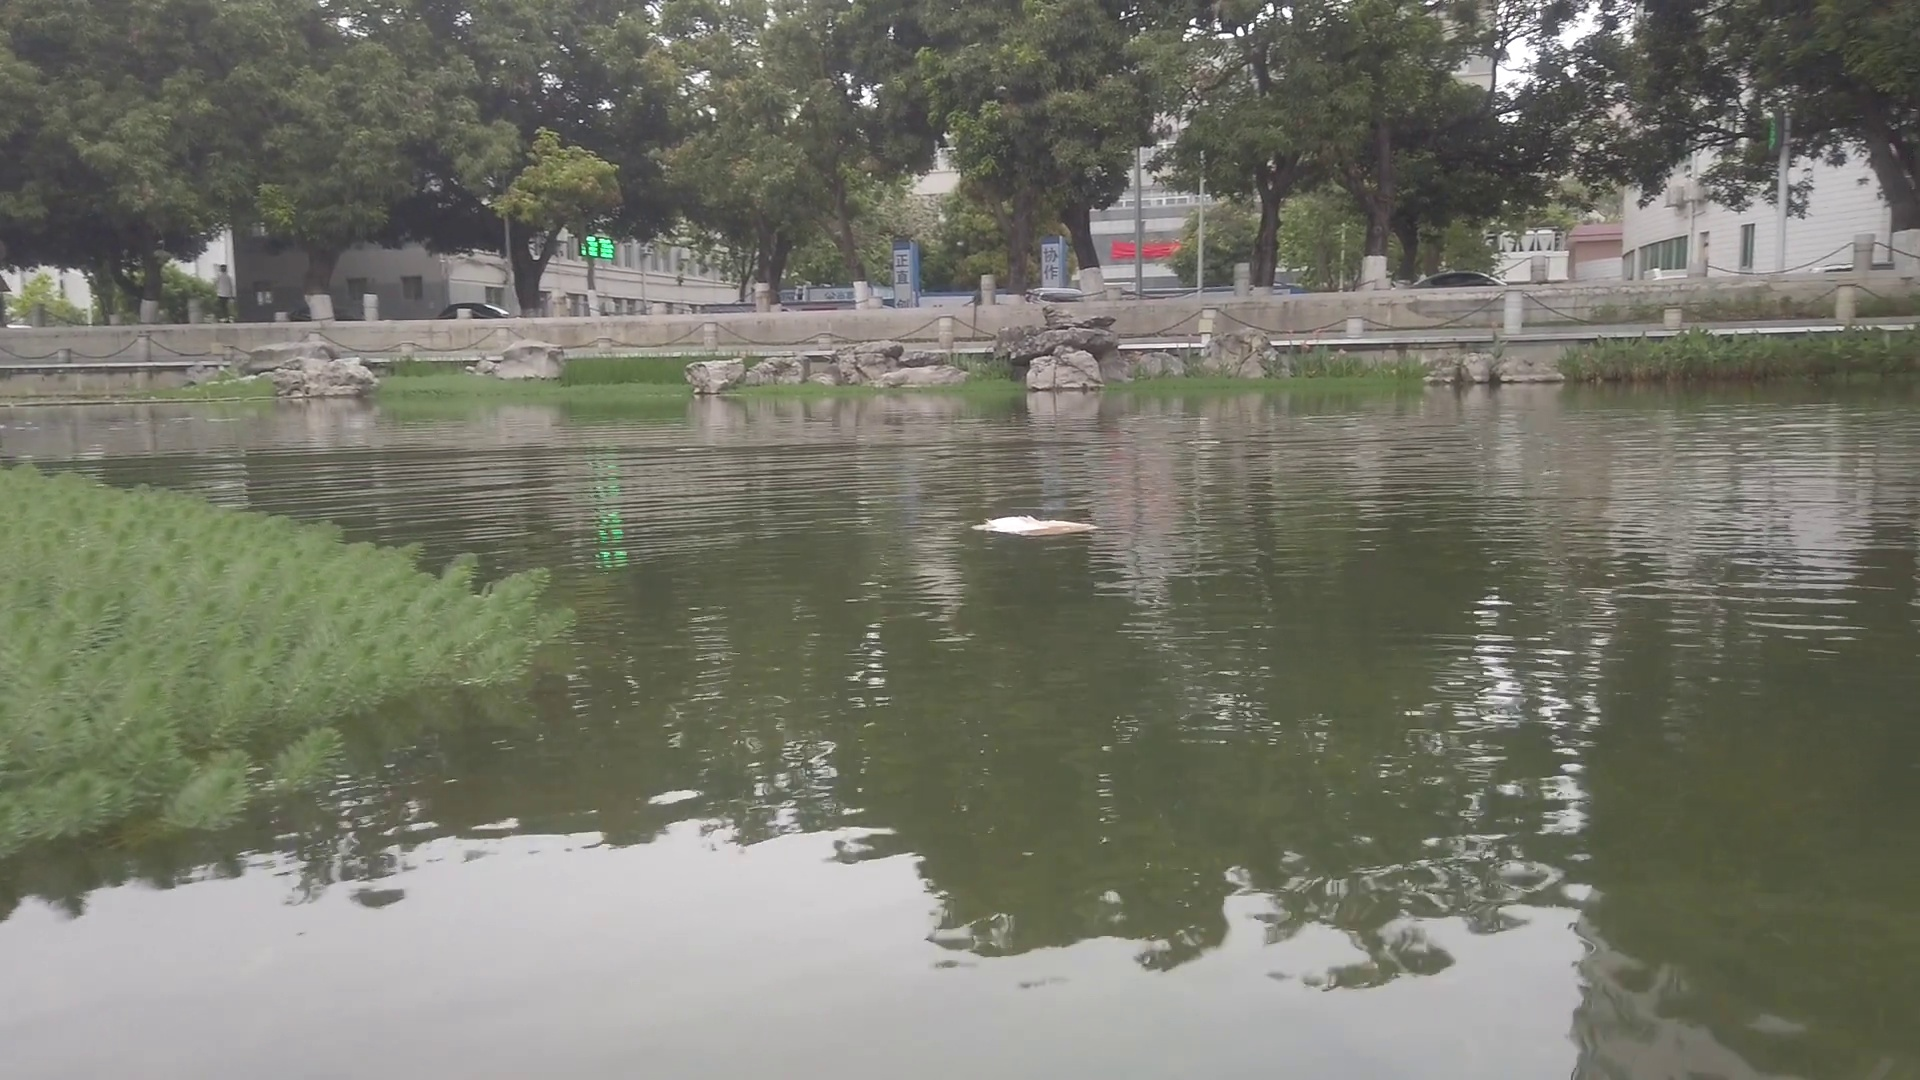paper: (978, 510, 1089, 541)
